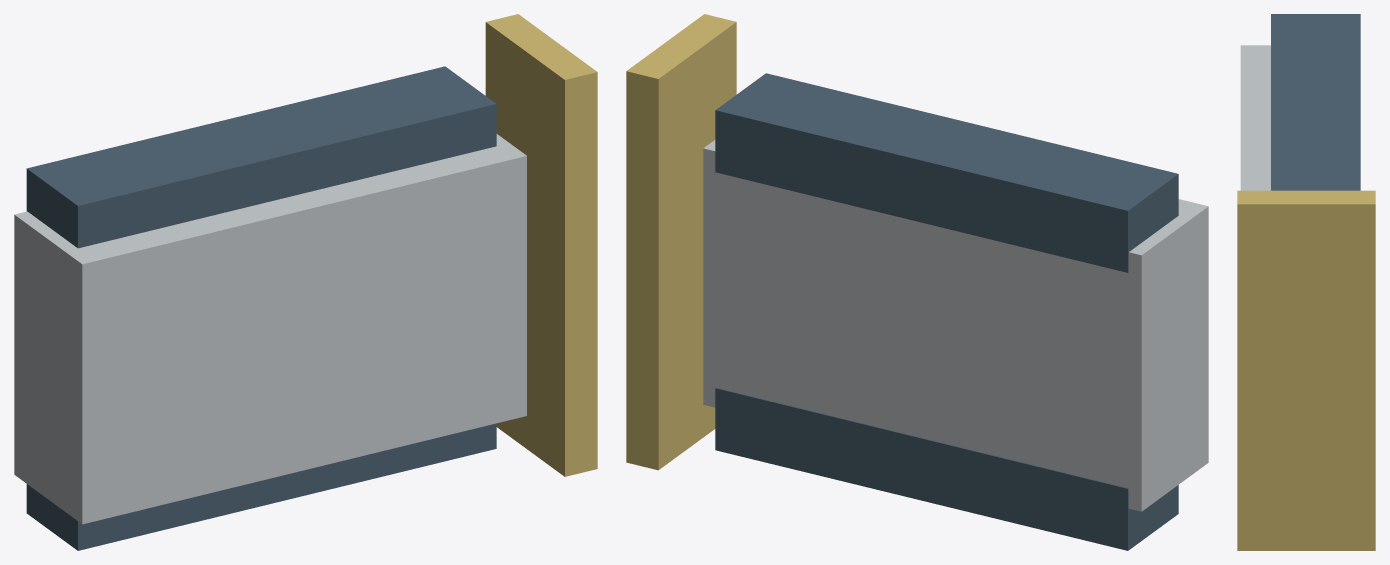
The model's file is u_dozer.glb.
The picture shows the model from 3 angles, left to right: view 1: azimuth 30°, elevation 25°; view 2: azimuth 150°, elevation 25°; view 3: azimuth 270°, elevation 25°; orthographic projection. The views are drawn at different scales.
Parts seen in each view (by area): view 1: chassis, track_1.03, bulldozer_blade, track_-1.03; view 2: chassis, track_1.03, bulldozer_blade, track_-1.03; view 3: bulldozer_blade, track_1.03, chassis.
Part boxes in pixels (bbox=[...]): chassis: bbox=[14, 134, 526, 524]; track_1.03: bbox=[26, 66, 496, 248]; bulldozer_blade: bbox=[485, 14, 597, 476]; track_-1.03: bbox=[26, 423, 496, 550]; chassis: bbox=[703, 140, 1208, 511]; track_1.03: bbox=[715, 73, 1178, 272]; bulldozer_blade: bbox=[626, 14, 736, 470]; track_-1.03: bbox=[715, 387, 1178, 550]; bulldozer_blade: bbox=[1237, 190, 1375, 550]; track_1.03: bbox=[1271, 14, 1360, 190]; chassis: bbox=[1240, 45, 1270, 190].
Bounding box in the file's own units: 3.92 × 2.9 × 1.05.
